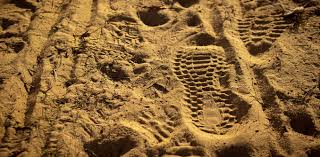human_foot_print: (131, 1, 293, 140)
